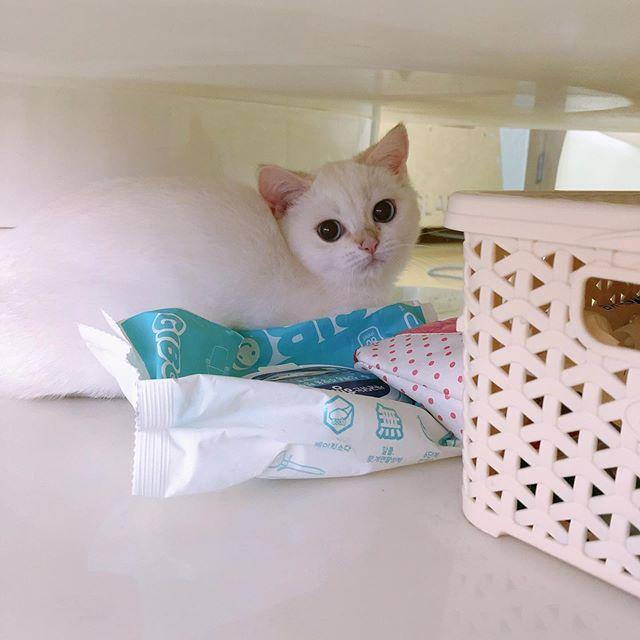cat: (256, 123, 427, 297)
